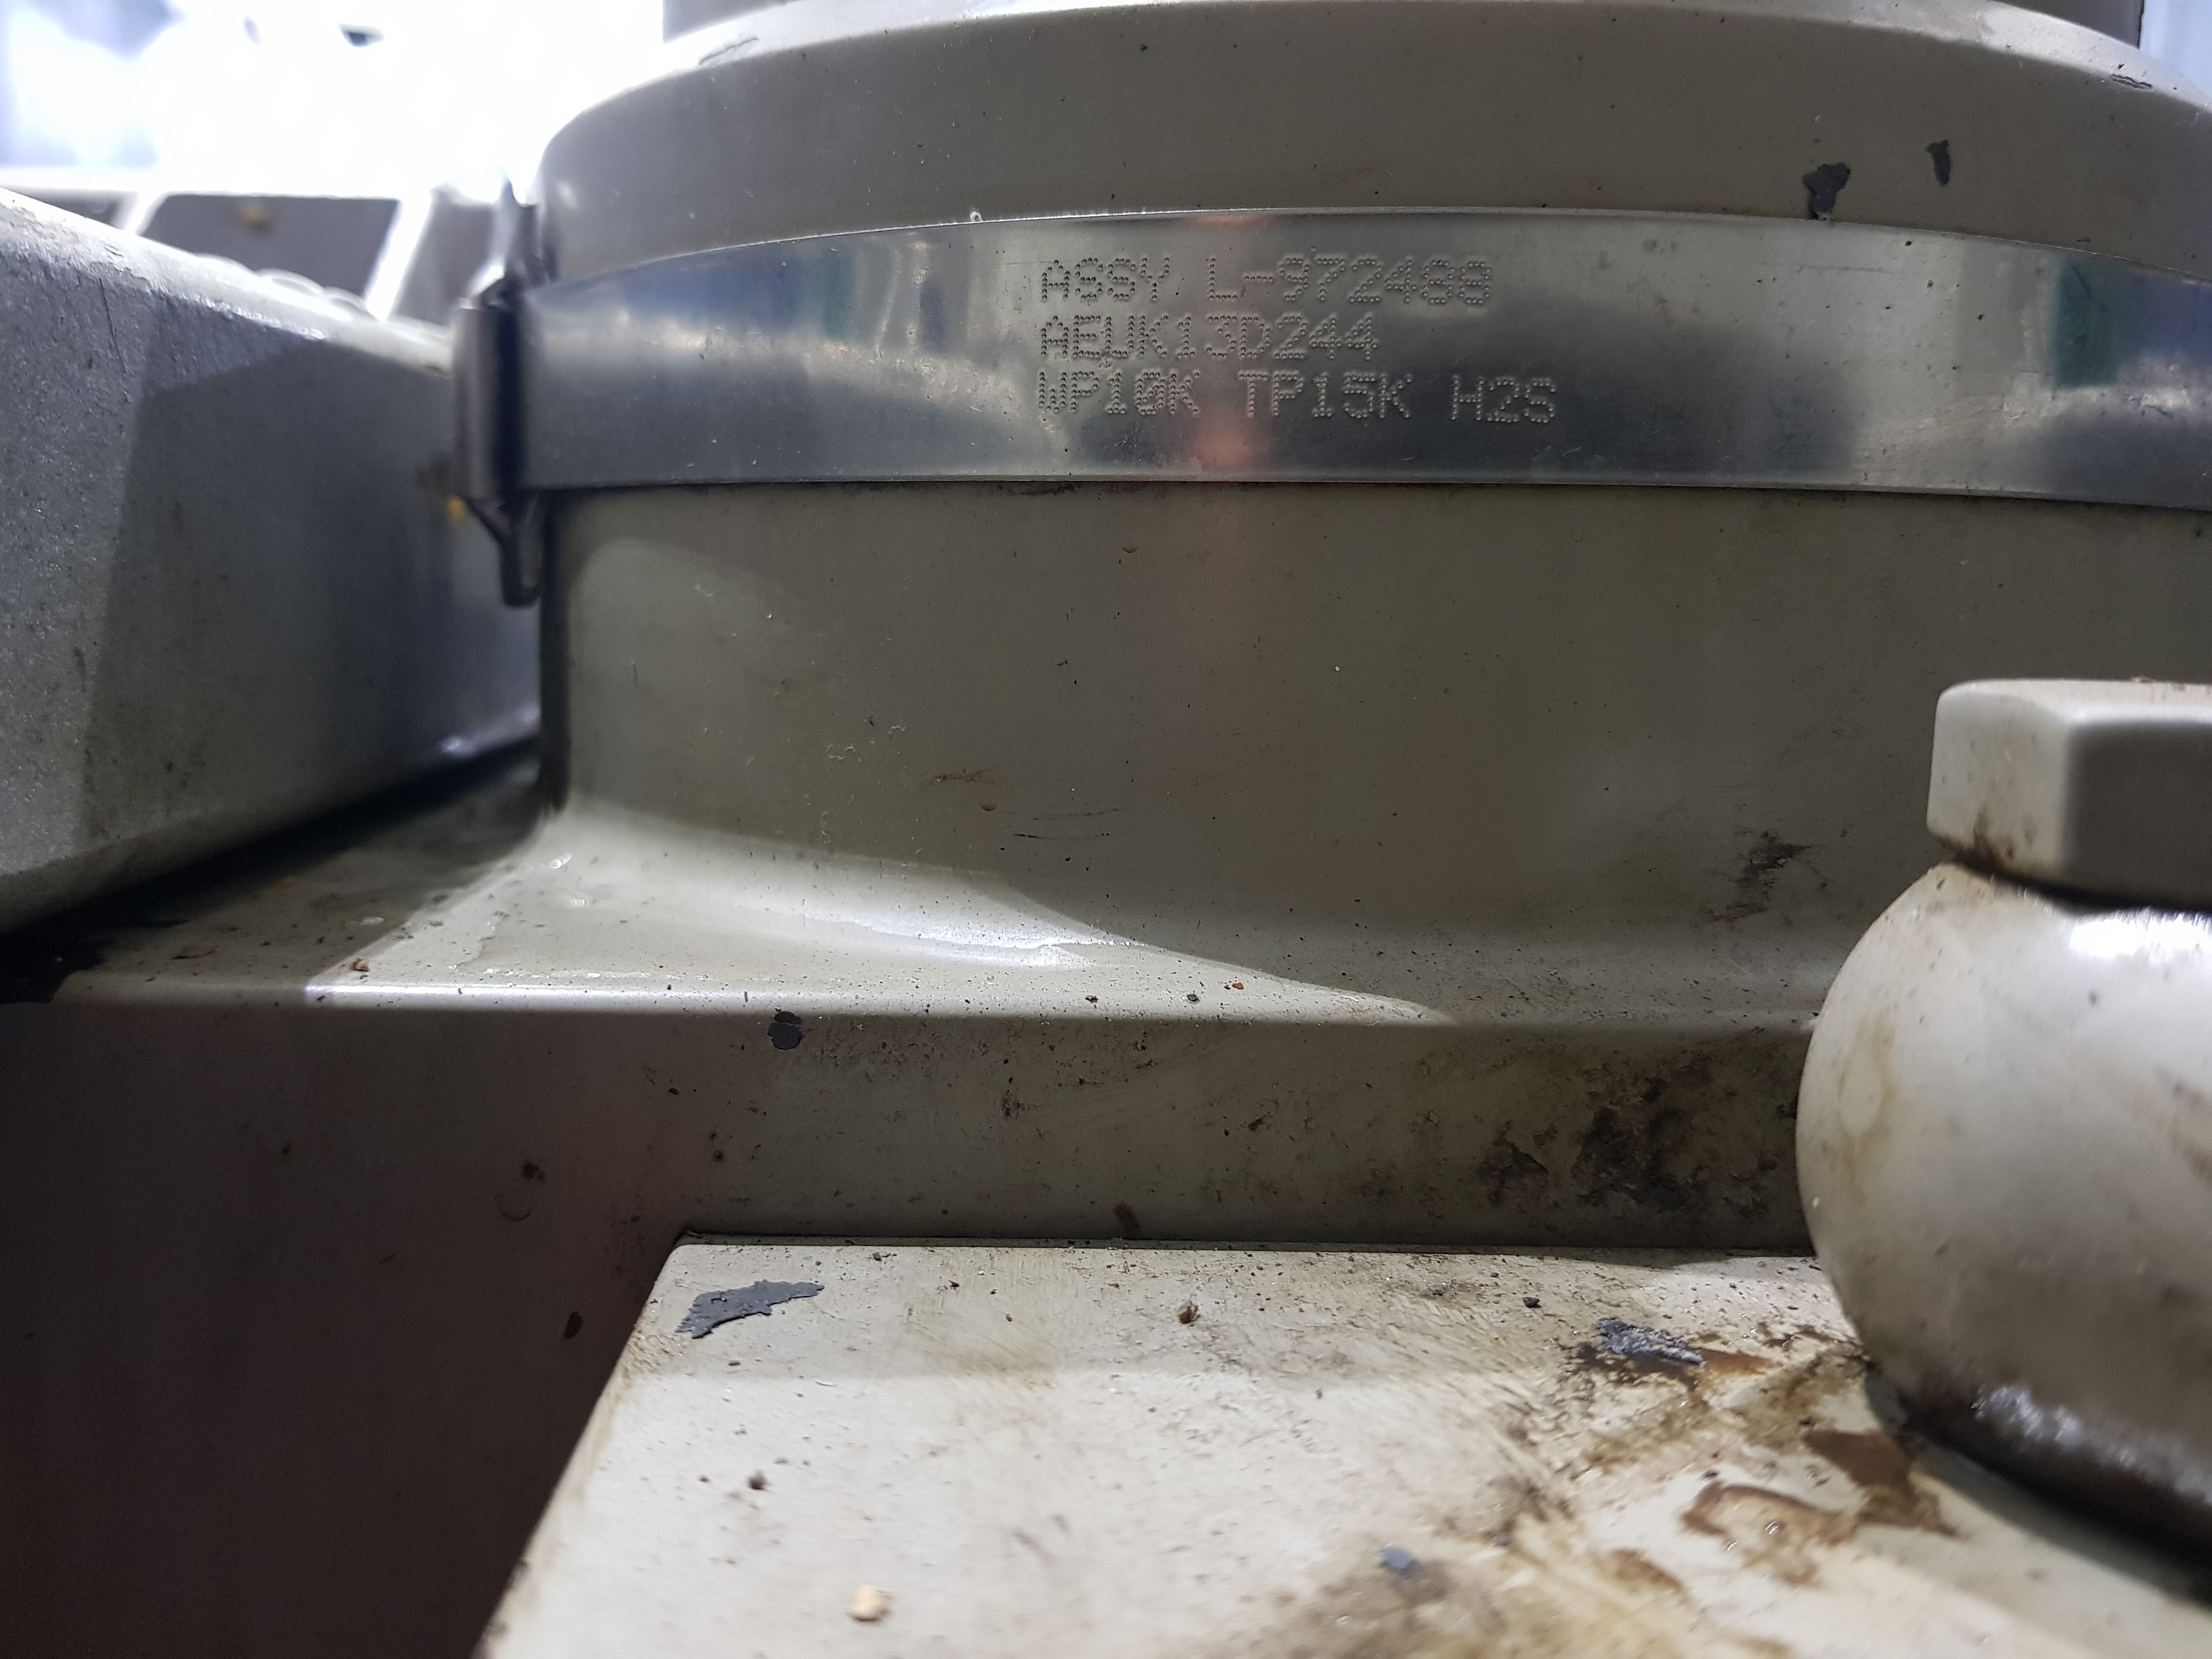character: (1305, 253, 1350, 307), (1456, 256, 1500, 312), (1446, 369, 1487, 427), (1484, 373, 1526, 430), (1198, 249, 1244, 301), (1341, 310, 1386, 362), (1163, 369, 1209, 422), (1346, 253, 1388, 308), (1134, 307, 1172, 366), (1306, 308, 1345, 366), (1522, 373, 1561, 430), (1033, 254, 1075, 307), (1414, 256, 1456, 307), (1132, 254, 1172, 307), (1231, 368, 1271, 420), (1266, 369, 1306, 422), (1376, 373, 1418, 422), (1101, 254, 1141, 305), (1381, 254, 1420, 307), (1275, 253, 1312, 305), (1035, 364, 1071, 416), (1069, 312, 1104, 364), (1277, 310, 1312, 362), (1343, 369, 1378, 422), (1237, 314, 1273, 362), (1066, 369, 1101, 420), (1134, 369, 1167, 422), (1101, 314, 1137, 361), (1207, 312, 1238, 366), (1310, 369, 1339, 425), (1040, 312, 1073, 361), (1169, 312, 1202, 361), (1073, 258, 1106, 305), (1103, 368, 1129, 418), (1238, 263, 1278, 291)
